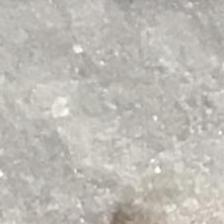Non_Crack: (27, 3, 215, 164)
